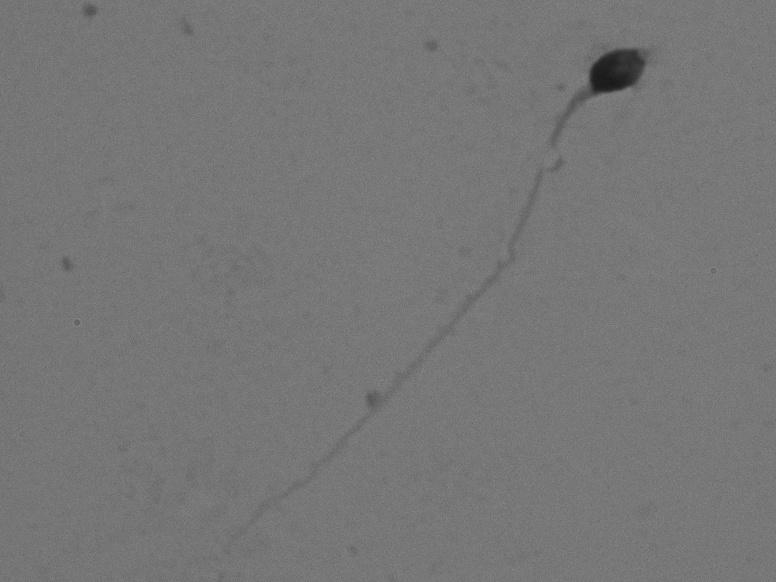Abnormal: (134, 31, 687, 567)
